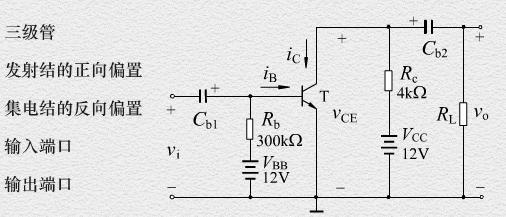cap1: (196, 81, 221, 107), (420, 15, 438, 38)
power2: (378, 131, 401, 160), (240, 155, 260, 185)
res1: (456, 99, 470, 130), (244, 116, 254, 145), (383, 67, 393, 85)
triode: (296, 76, 320, 114)
